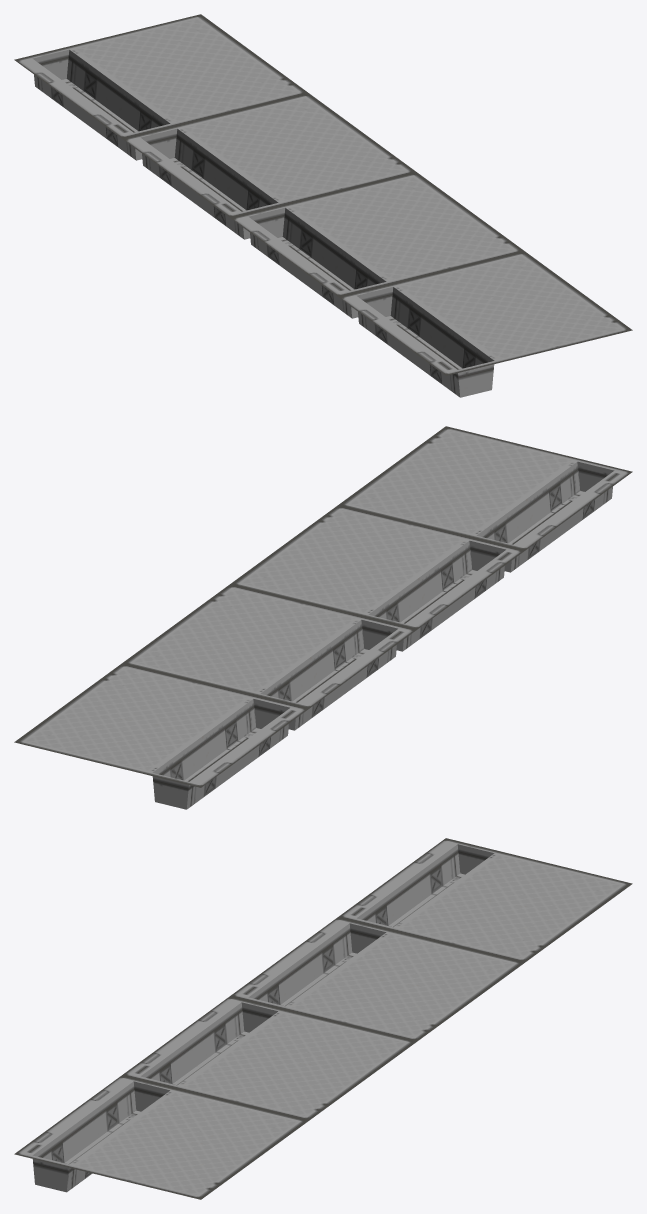
Rendered from A_Floor_2_2x8.FBX.
3 renders of one model, top to bottom at view 1: azimuth 30°, elevation 25°; view 2: azimuth 150°, elevation 25°; view 3: azimuth 330°, elevation 25°, orthographic.
Visible parts, largest first — view 1: A_Floor_2_2x8; view 2: A_Floor_2_2x8; view 3: A_Floor_2_2x8.
Boxes of the visible parts, <box> form: A_Floor_2_2x8: <box>14,14,632,397</box>; A_Floor_2_2x8: <box>14,426,632,809</box>; A_Floor_2_2x8: <box>14,838,632,1199</box>.
Bounding box in the file's own units: 200 × 29.19 × 800.
